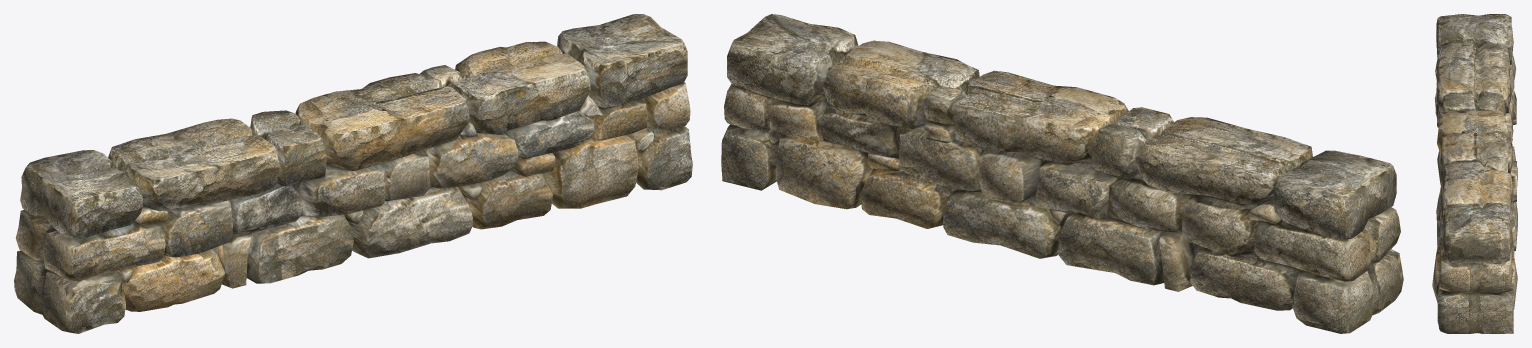
The model's file is generated-1948-12-low-stone-wall-module.glb.
3 renders of one model, left to right at view 1: azimuth 30°, elevation 25°; view 2: azimuth 150°, elevation 25°; view 3: azimuth 270°, elevation 25°, orthographic. The views are drawn at different scales.
Visible parts, largest first — view 1: tripo_node_8beb5c1b-090e-4daa-884b-4876439b56aa; view 2: tripo_node_8beb5c1b-090e-4daa-884b-4876439b56aa; view 3: tripo_node_8beb5c1b-090e-4daa-884b-4876439b56aa.
Part boxes in pixels (<box>): tripo_node_8beb5c1b-090e-4daa-884b-4876439b56aa: <box>14,14,692,333</box>; tripo_node_8beb5c1b-090e-4daa-884b-4876439b56aa: <box>721,14,1403,333</box>; tripo_node_8beb5c1b-090e-4daa-884b-4876439b56aa: <box>1432,14,1517,333</box>.
Bounding box in the file's own units: 0.9995 × 0.2036 × 0.1597.
1 material, 1 textured.
